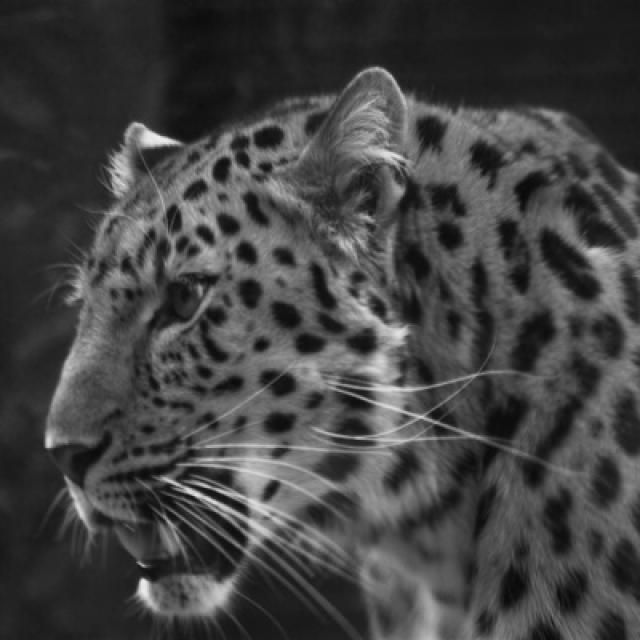Jaguar: (42, 67, 638, 638)
